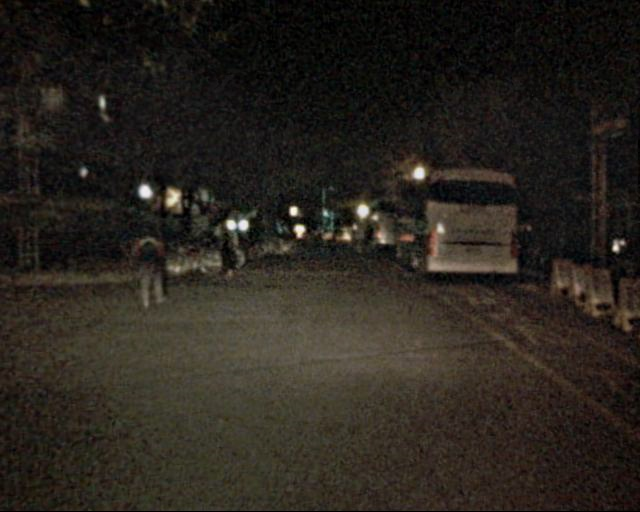person: (131, 214, 172, 315), (210, 210, 240, 283), (351, 221, 375, 260)
